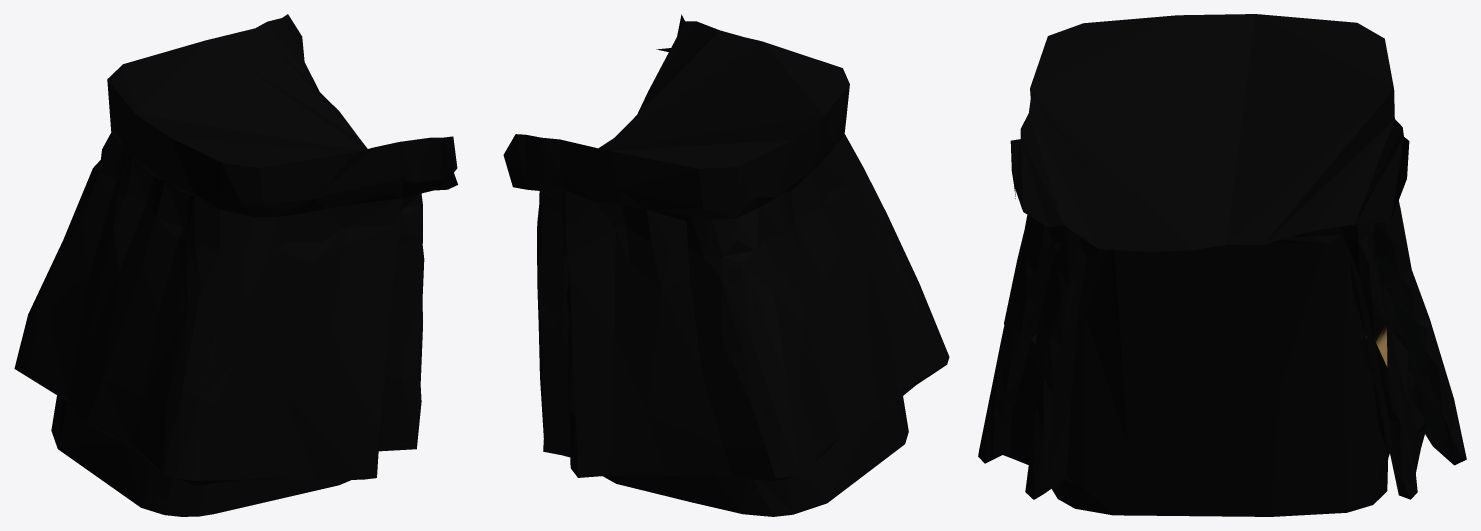
Rendered from RightUpperLeg.glb.
3 renders of one model, left to right at view 1: azimuth 30°, elevation 25°; view 2: azimuth 150°, elevation 25°; view 3: azimuth 270°, elevation 25°, orthographic. The views are drawn at different scales.
Visible parts, largest first — view 1: RightUpperLeg; view 2: RightUpperLeg; view 3: RightUpperLeg.
Boxes of the visible parts, x1,y1,x2,y2 form: RightUpperLeg: (14, 14, 457, 516); RightUpperLeg: (503, 14, 949, 516); RightUpperLeg: (978, 14, 1466, 516).
Bounding box in the file's own units: 1.53 × 1.6 × 1.75.
1 material, 1 textured.
